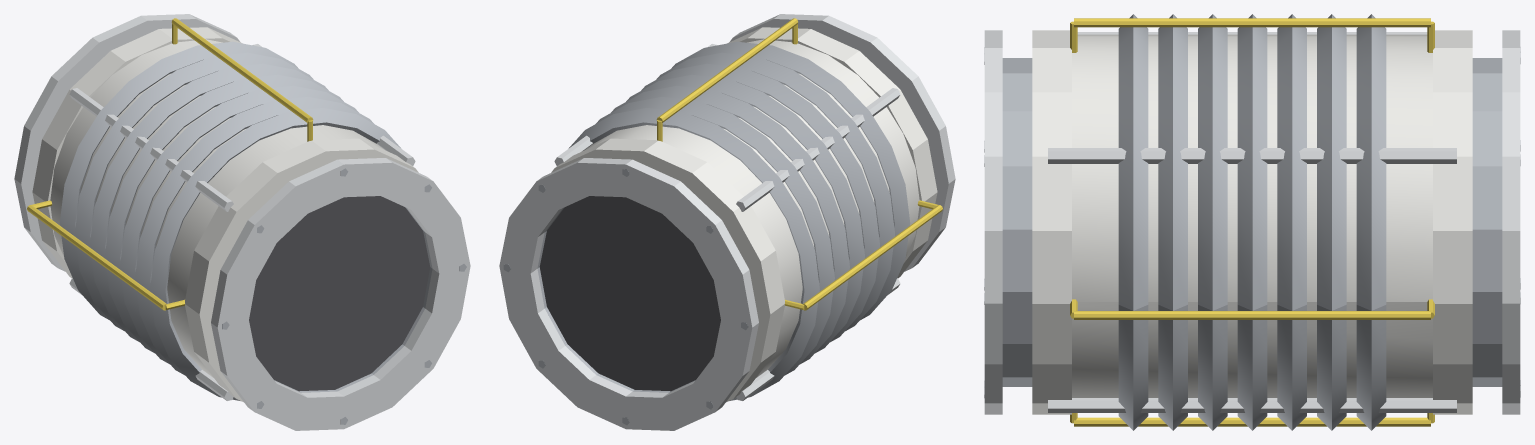
Rendered from orbital-station-and-docking-bays-connecting-tunnel-8303d984__24537.glb.
3 renders of one model, left to right at view 1: azimuth 30°, elevation 25°; view 2: azimuth 150°, elevation 25°; view 3: azimuth 270°, elevation 25°, orthographic. The views are drawn at different scales.
Parts seen in each view (by area): view 1: connecting-tunnel; view 2: connecting-tunnel; view 3: connecting-tunnel.
Part boxes in pixels (<box>): connecting-tunnel: <box>14,14,470,430</box>; connecting-tunnel: <box>499,14,955,430</box>; connecting-tunnel: <box>984,14,1520,430</box>.
Bounding box in the file's own units: 2.27 × 2.27 × 2.7.
